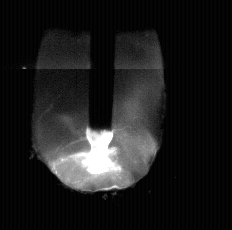arame: (89, 0, 114, 132)
poca: (32, 0, 166, 230)
